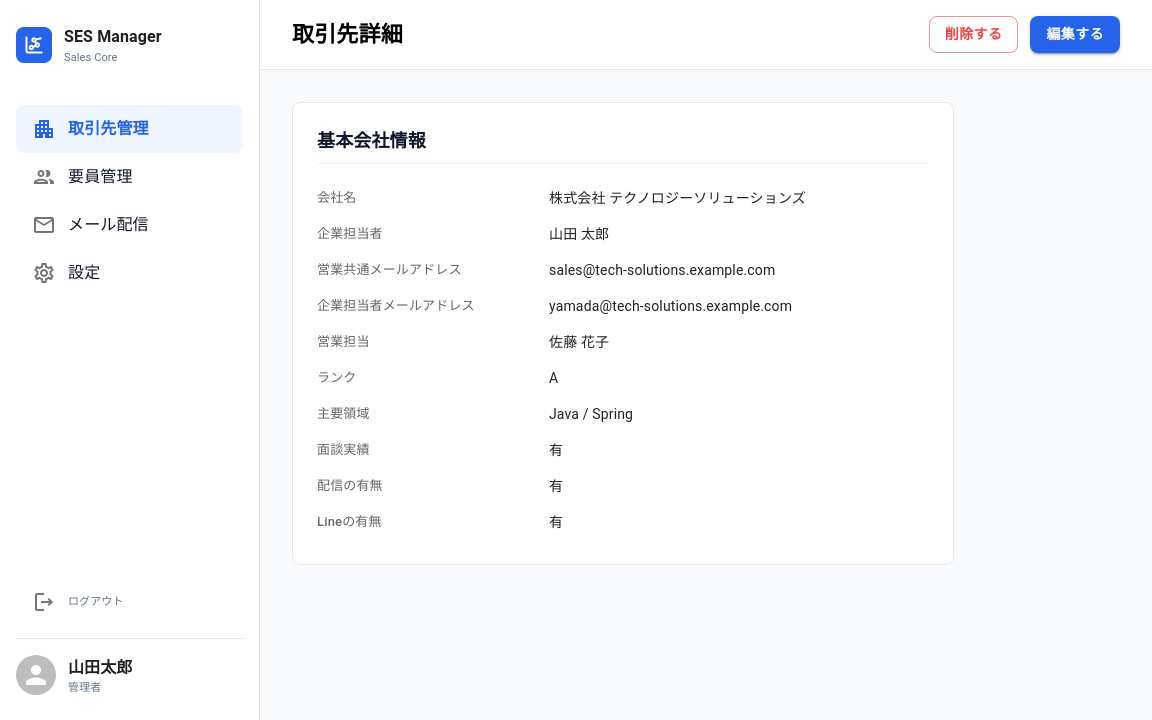
Scenario: CompanyDetailPage › キャンセル押下でモーダルが閉じ、遷移しない
This screenshot has width=1152, height=720.
Click the button "削除する" at (974, 34), box x1=929 y1=16 x2=1018 y2=52
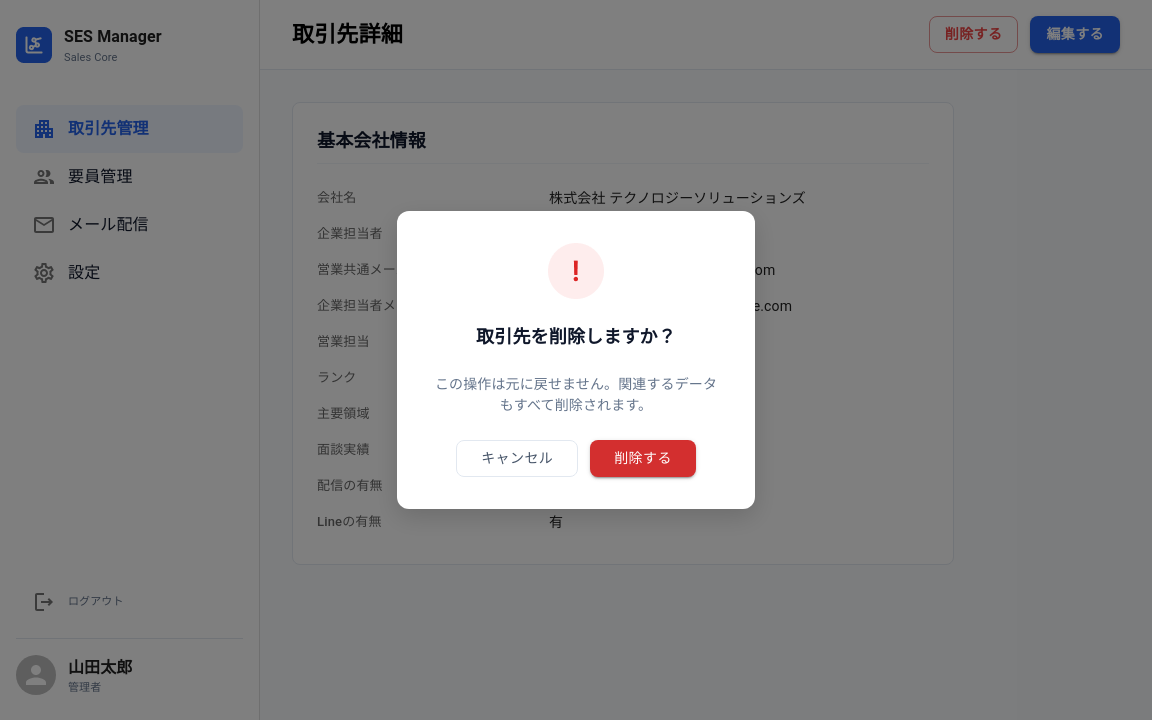
Click the button "キャンセル" at (517, 458), box x1=456 y1=440 x2=578 y2=477
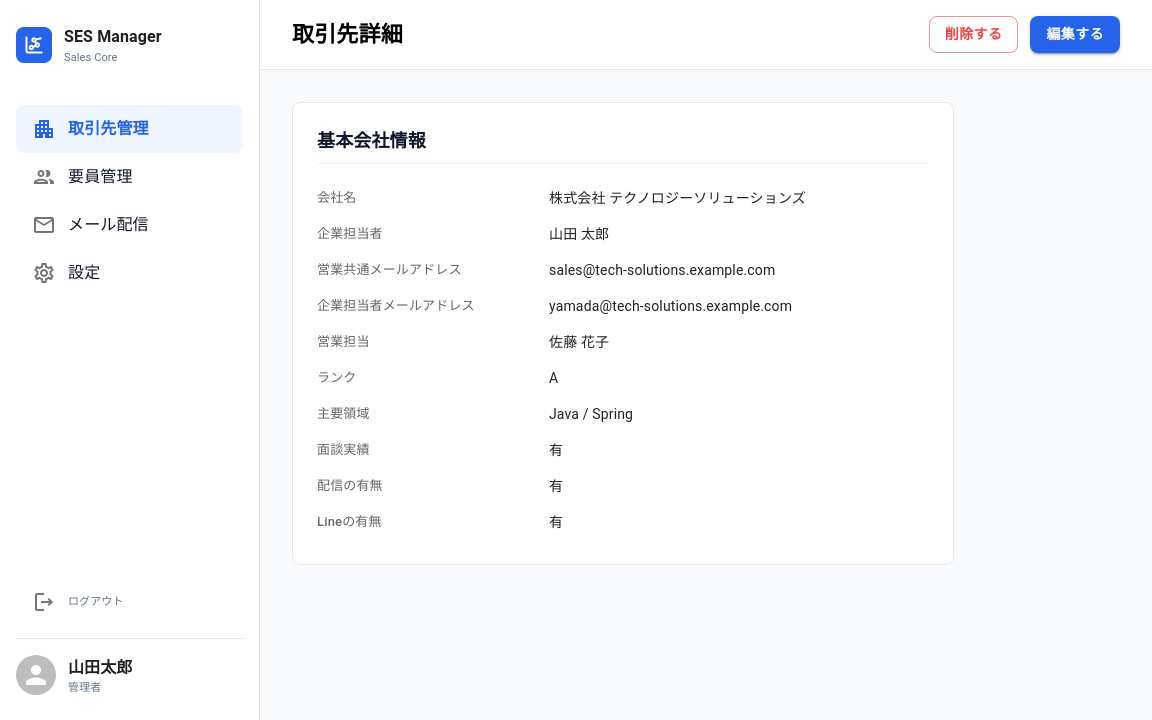
Expected: the dialog is gone
